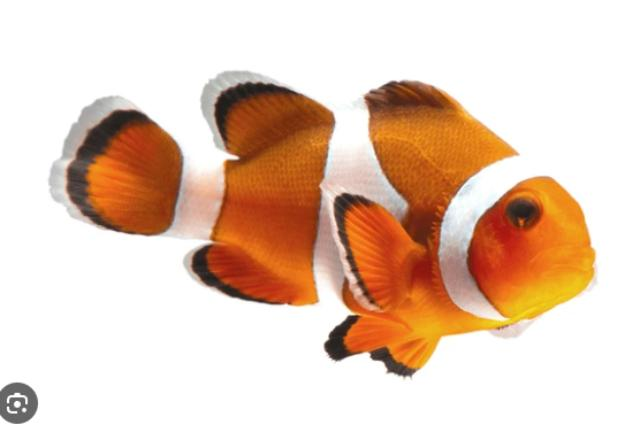Mulut: (518, 235, 616, 303)
Sirip Anal: (176, 234, 302, 318)
Sirip Dada: (312, 178, 434, 318)
Sirip Ekor: (42, 87, 190, 254)
Sirip Perut: (317, 308, 439, 364)
Sirip Punggung: (196, 60, 468, 158)
